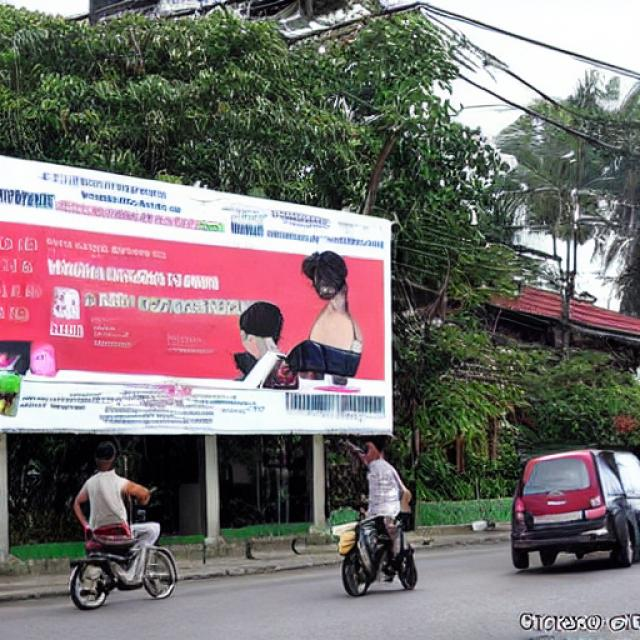Billboard: (0, 154, 399, 439)
